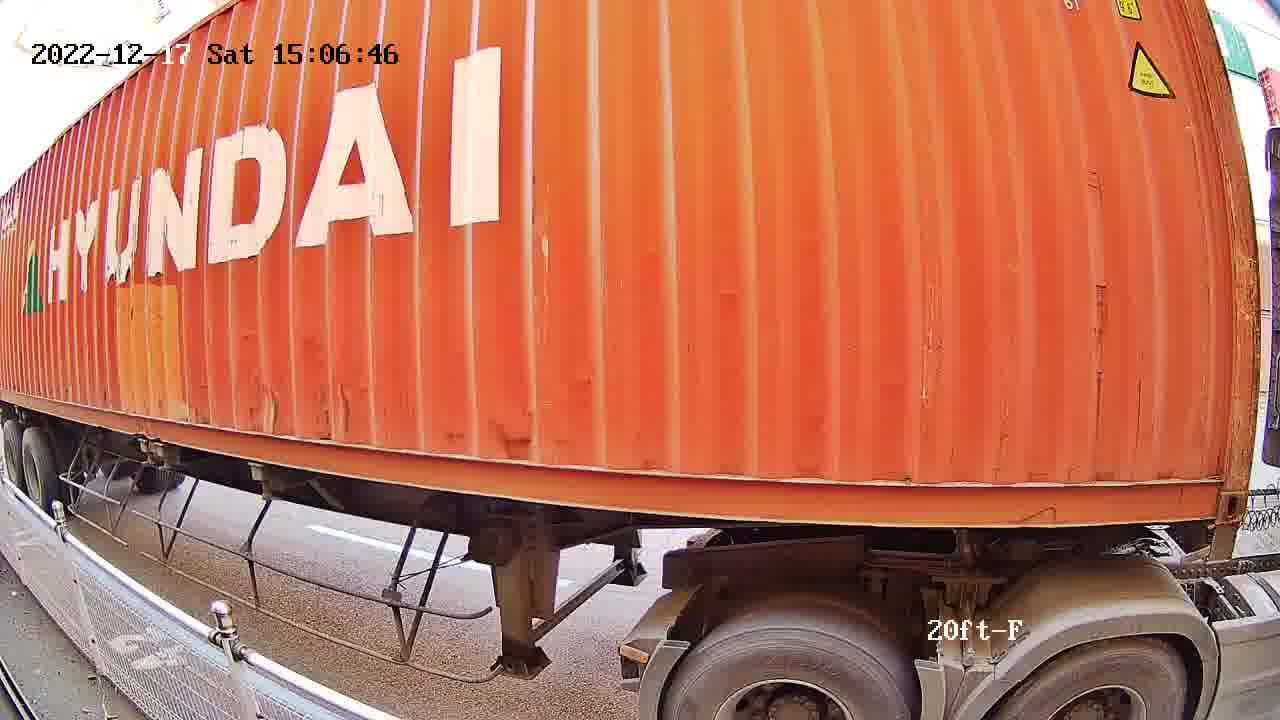Cone: (1193, 525, 1241, 564)
Hole_R: (1181, 462, 1253, 524)
Tire: (663, 623, 909, 716), (997, 646, 1184, 718)
